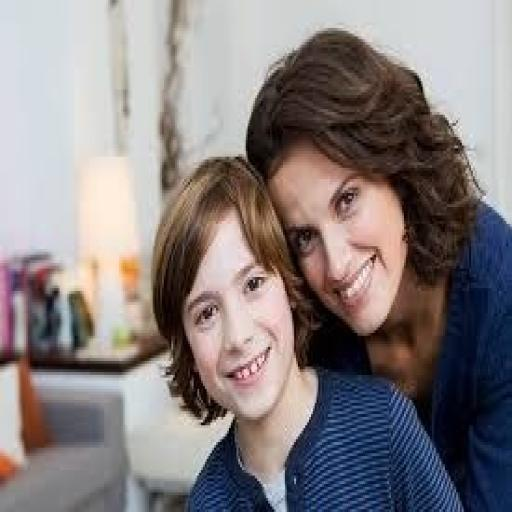hugging: (242, 25, 510, 509), (149, 151, 471, 509)
